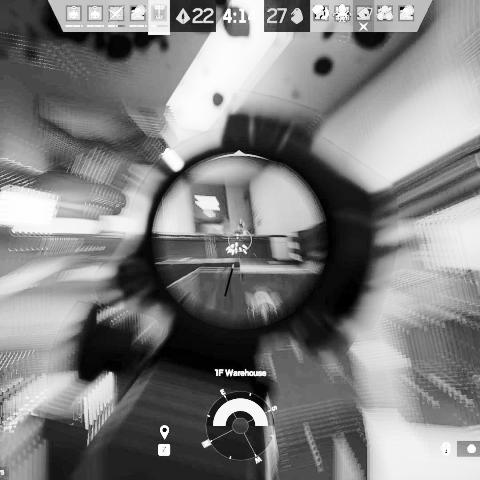Character: (231, 219, 251, 236)
Head: (237, 220, 245, 230)
